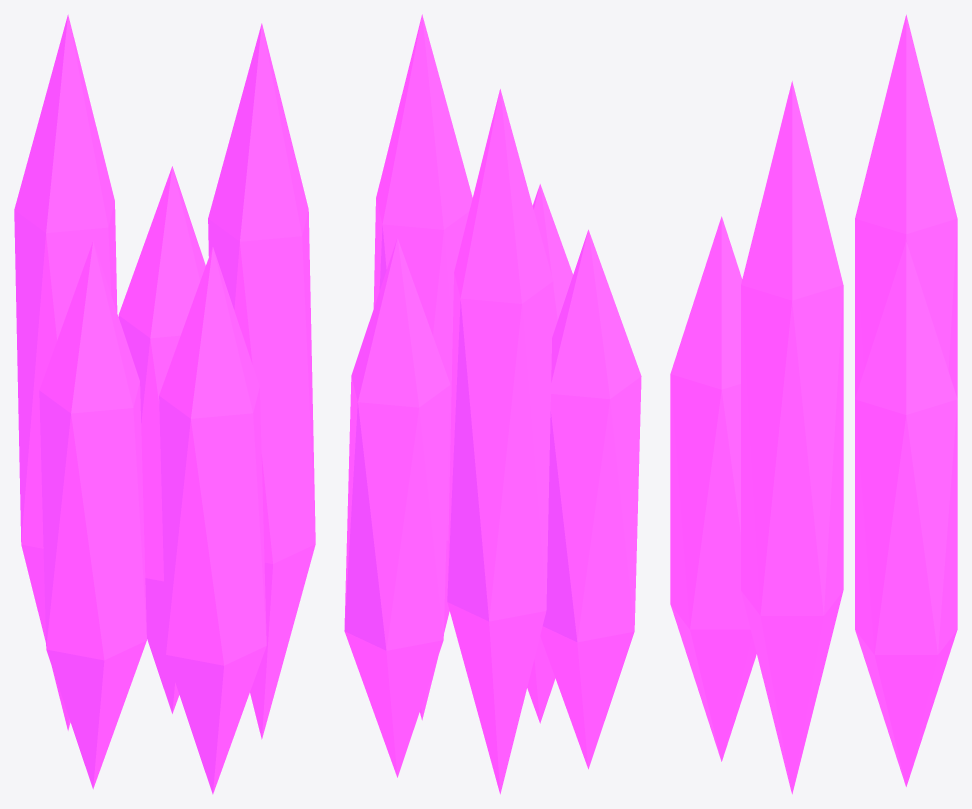
File: prop-8-refined-v15.fbx
The picture shows the model from 3 angles, left to right: view 1: azimuth 30°, elevation 25°; view 2: azimuth 150°, elevation 25°; view 3: azimuth 270°, elevation 25°; orthographic projection.
Parts seen in each view (by area): view 1: CrystalCluster.004, CrystalCluster, CrystalCluster.001, CrystalCluster.003, CrystalCluster.002; view 2: CrystalCluster.003, CrystalCluster.002, CrystalCluster.004, CrystalCluster.001, CrystalCluster; view 3: CrystalCluster.001, CrystalCluster.002, CrystalCluster, CrystalCluster.003.
Part boxes in pixels (bbox=[...]): CrystalCluster.004: bbox=[39, 241, 146, 789]; CrystalCluster: bbox=[159, 247, 266, 794]; CrystalCluster.001: bbox=[208, 23, 315, 739]; CrystalCluster.003: bbox=[14, 14, 117, 730]; CrystalCluster.002: bbox=[118, 166, 205, 713]; CrystalCluster.003: bbox=[447, 89, 553, 794]; CrystalCluster.002: bbox=[344, 238, 450, 777]; CrystalCluster.004: bbox=[540, 229, 641, 769]; CrystalCluster.001: bbox=[373, 14, 472, 720]; CrystalCluster: bbox=[527, 184, 572, 723]; CrystalCluster.001: bbox=[741, 81, 843, 794]; CrystalCluster.002: bbox=[855, 242, 957, 786]; CrystalCluster: bbox=[670, 216, 756, 761]; CrystalCluster.003: bbox=[855, 14, 957, 398].
Size of the model in its own units: 65.1 by 172 by 61.92.
